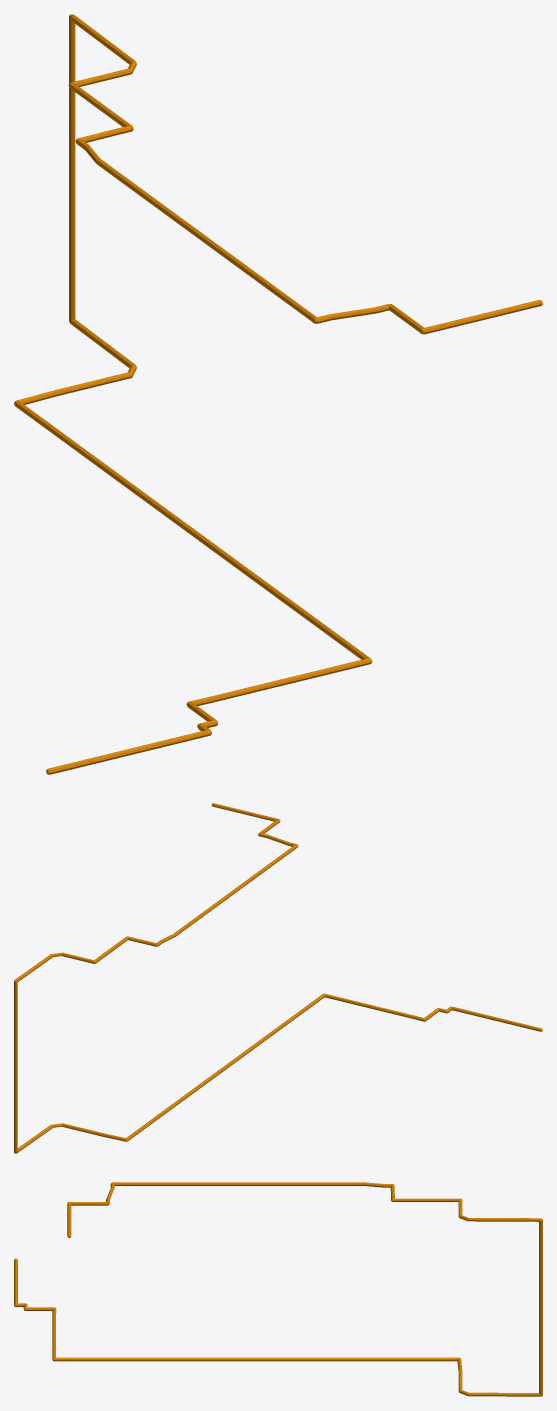
The picture shows the model from 3 angles, top to bottom: view 1: azimuth 30°, elevation 25°; view 2: azimuth 150°, elevation 25°; view 3: azimuth 270°, elevation 25°; orthographic projection. The views are drawn at different scales.
Bounding box in the file's own units: 1870 × 1020 × 2742.
